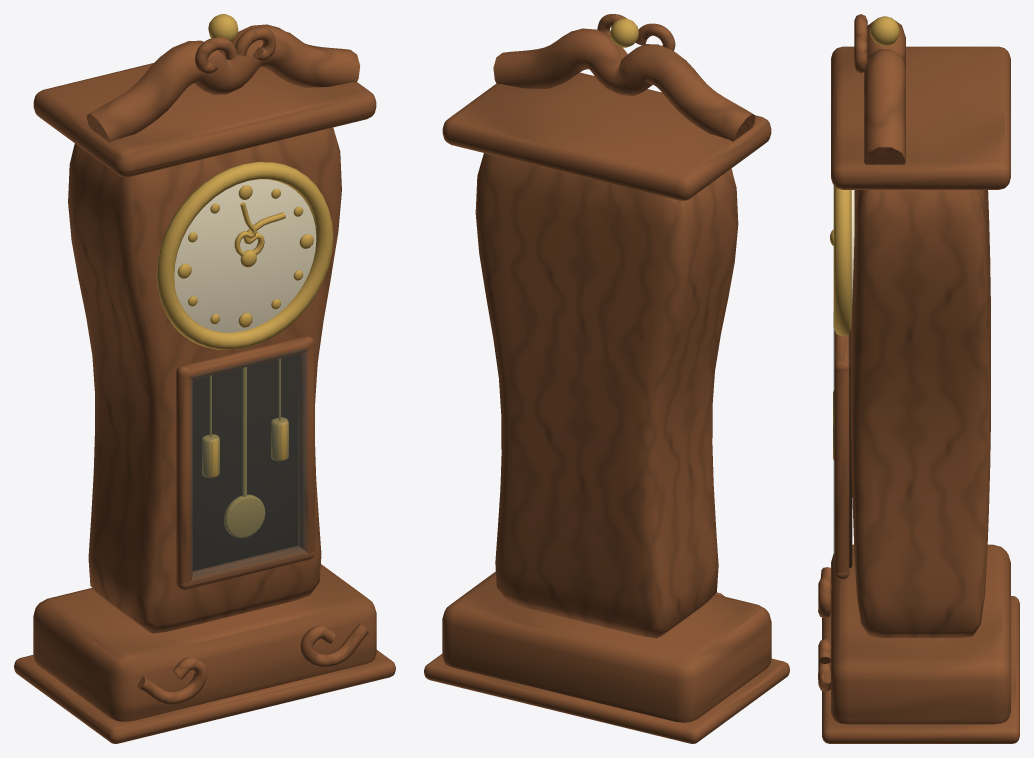
File: grandfather_clock.glb
3 views of the same model, side by side, from view 1: azimuth 30°, elevation 25°; view 2: azimuth 150°, elevation 25°; view 3: azimuth 270°, elevation 25° (orthographic). The views are drawn at different scales.
Visible parts, largest first — view 1: clock_body, clock_glass, pendulum; view 2: clock_body; view 3: clock_body.
Boxes of the visible parts, x1,y1,x2,y2 form: clock_body: (14,14,395,743); clock_glass: (191,348,307,583); pendulum: (224,367,265,538); clock_body: (424,14,789,743); clock_body: (818,14,1019,743).
Bounding box in the file's own units: 1.07 × 2.4 × 0.6645.
5 materials, 1 textured.
